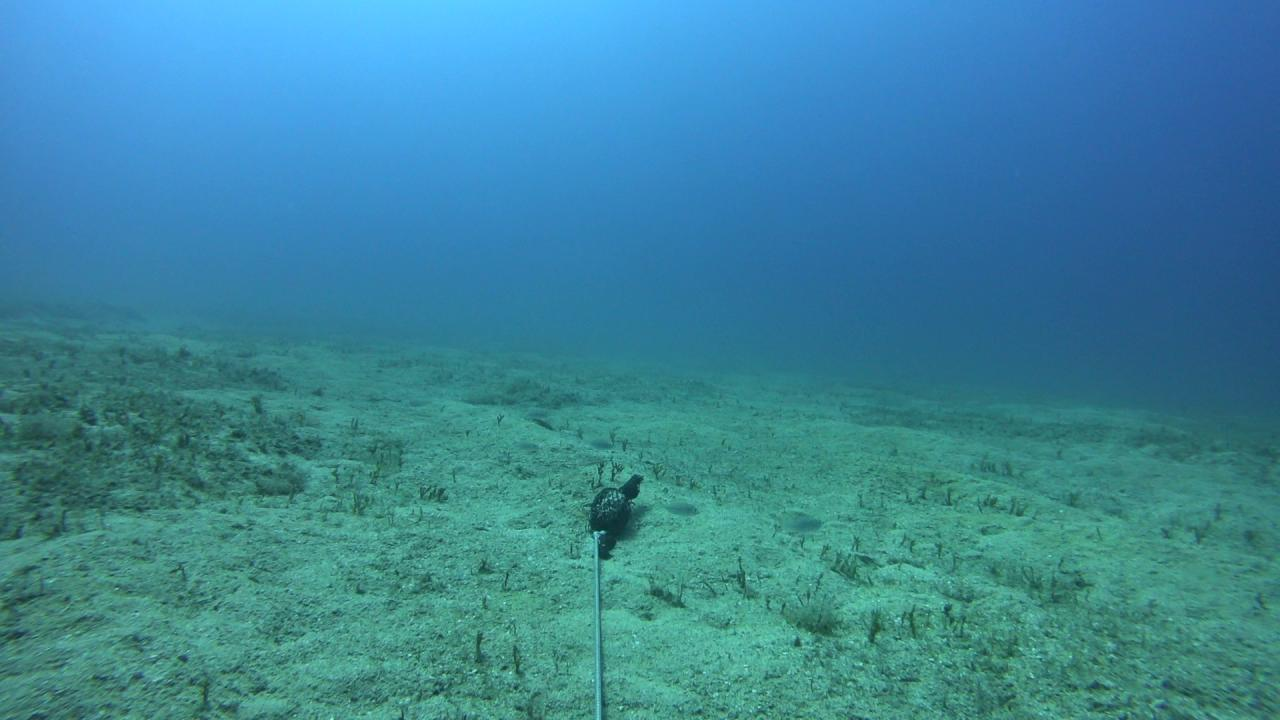pagellus: (647, 493, 701, 520), (772, 513, 823, 538)
